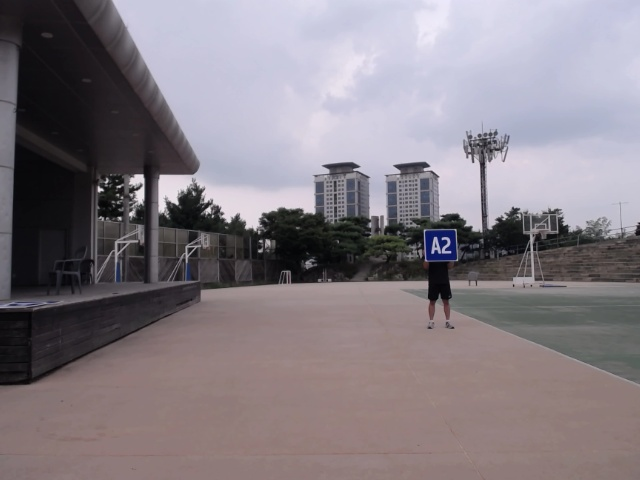delivery_a2: (424, 230, 458, 261)
